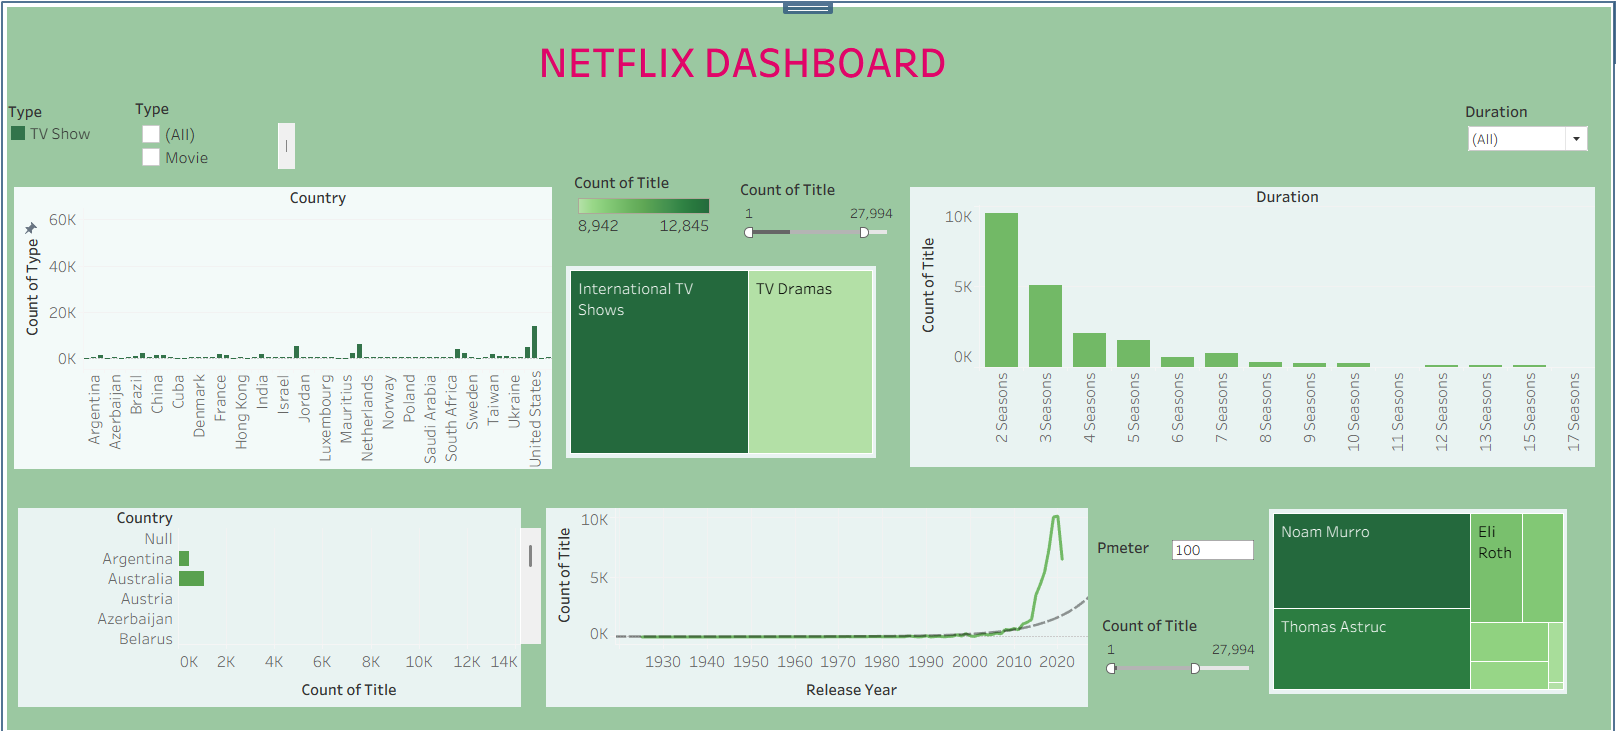

Layout of this report page (visuals, bound fields, positions):
{"tool":"tableau","page":{"name":"Dashboard 1","canvas":[1000,1000],"units":"permille","ordinal":0},"visuals":[{"type":"text","box":[331.7,50.9,255.5,75]},{"type":"worksheet","title":"Duration","mark":"Automatic","rows":["title"],"cols":["duration"],"box":[562,96.4,420.8,535.5]},{"type":"filter","title":"TVSHOW/MOVIE","param":"[federated.1x0xc800k233lv1bbslh01fo066n].[none:type:nk]","box":[86,137.9,98.3,95]},{"type":"legend","title":"TVSHOW/MOVIE","param":"[federated.1x0xc800k233lv1bbslh01fo066n].[none:type:nk]","box":[8,141.9,86,85.7]},{"type":"worksheet","title":"TVSHOW/MOVIE","mark":"Automatic","rows":["type"],"cols":["Country"],"box":[11.7,237,330.5,397.6]},{"type":"legend","title":"Genre top 10","param":"[federated.1x0xc800k233lv1bbslh01fo066n].[cnt:title:qk]","box":[355.7,237,86,117.8]},{"type":"filter","title":"Duration","param":"[federated.1x0xc800k233lv1bbslh01fo066n].[cnt:title:qk]","box":[457.6,246.3,98.3,100.4]},{"type":"worksheet","title":"Genre top 10","mark":"Automatic","box":[350.7,342.7,190.4,333.3]},{"type":"worksheet","title":"Sheet 2","mark":"Automatic","rows":["Country"],"cols":["title"],"box":[14.1,619.8,321.2,333.3]},{"type":"worksheet","title":"Years trend","mark":"Line","rows":["title"],"cols":["release_year"],"box":[338.4,619.8,332.9,333.3]},{"type":"worksheet","title":"Directors","mark":"Automatic","box":[782.6,621.1,183.1,338.7]},{"type":"parameter","param":"[Parameters].[Parameter 1]","box":[676.9,725.6,98.3,58.9]},{"type":"filter","title":"Directors","param":"[federated.1x0xc800k233lv1bbslh01fo066n].[cnt:title:qk]","box":[680,830,98.3,87]}]}

Visuals, with their boxes on the dashboard's canvas, which has no fixed pixel size, in thousandths of its width and height (x1, y1, x2, y2). These are canvas units, not pixel positions in the 1616x731 screenshot, which may show the page scaled, cropped or inside an application window:
text: region(332, 51, 587, 126)
"Duration" worksheet: region(562, 96, 983, 632)
"TVSHOW/MOVIE" filter: region(86, 138, 184, 233)
"TVSHOW/MOVIE" legend: region(8, 142, 94, 228)
"TVSHOW/MOVIE" worksheet: region(12, 237, 342, 635)
"Genre top 10" legend: region(356, 237, 442, 355)
"Duration" filter: region(458, 246, 556, 347)
"Genre top 10" worksheet: region(351, 343, 541, 676)
"Sheet 2" worksheet: region(14, 620, 335, 953)
"Years trend" worksheet (Line marks): region(338, 620, 671, 953)
"Directors" worksheet: region(783, 621, 966, 960)
parameter: region(677, 726, 775, 784)
"Directors" filter: region(680, 830, 778, 917)
